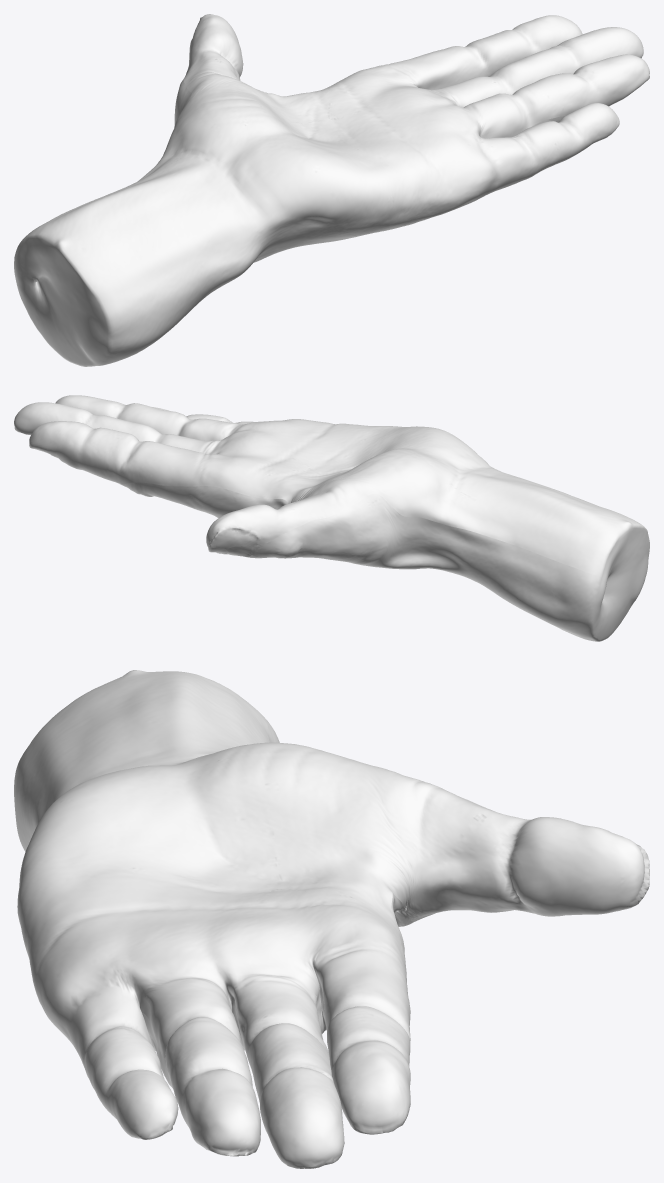
Rendered from HandRainbowHand2.gltf.
The picture shows the model from 3 angles, top to bottom: view 1: azimuth 30°, elevation 25°; view 2: azimuth 150°, elevation 25°; view 3: azimuth 270°, elevation 25°; orthographic projection. The views are drawn at different scales.
Visible parts, largest first — view 1: Group11720; view 2: Group11720; view 3: Group11720.
Part boxes in pixels (x1,y1,x2,y2): Group11720: (14, 14, 649, 366); Group11720: (14, 395, 649, 641); Group11720: (14, 670, 649, 1168).
Bounding box in the file's own units: 0.3315 × 0.0884 × 0.1786.
1 material, 1 textured.
